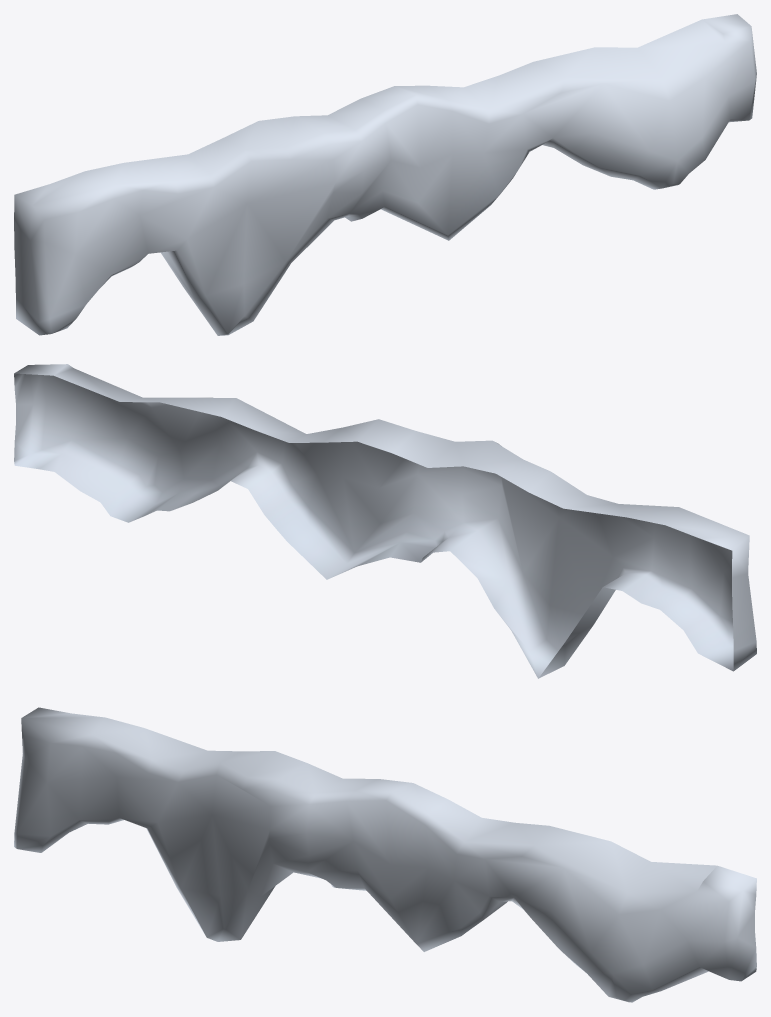
The model's file is Snow_cap_02.fbx.
3 views of the same model, one above another, from view 1: azimuth 30°, elevation 25°; view 2: azimuth 150°, elevation 25°; view 3: azimuth 330°, elevation 25° (orthographic).
Visible parts, largest first — view 1: Snow_cap_02; view 2: Snow_cap_02; view 3: Snow_cap_02.
Part boxes in pixels (<box>): Snow_cap_02: <box>14,14,756,335</box>; Snow_cap_02: <box>14,364,756,678</box>; Snow_cap_02: <box>14,707,756,1002</box>.
Size of the model in its own units: 400 by 106 by 43.07.
